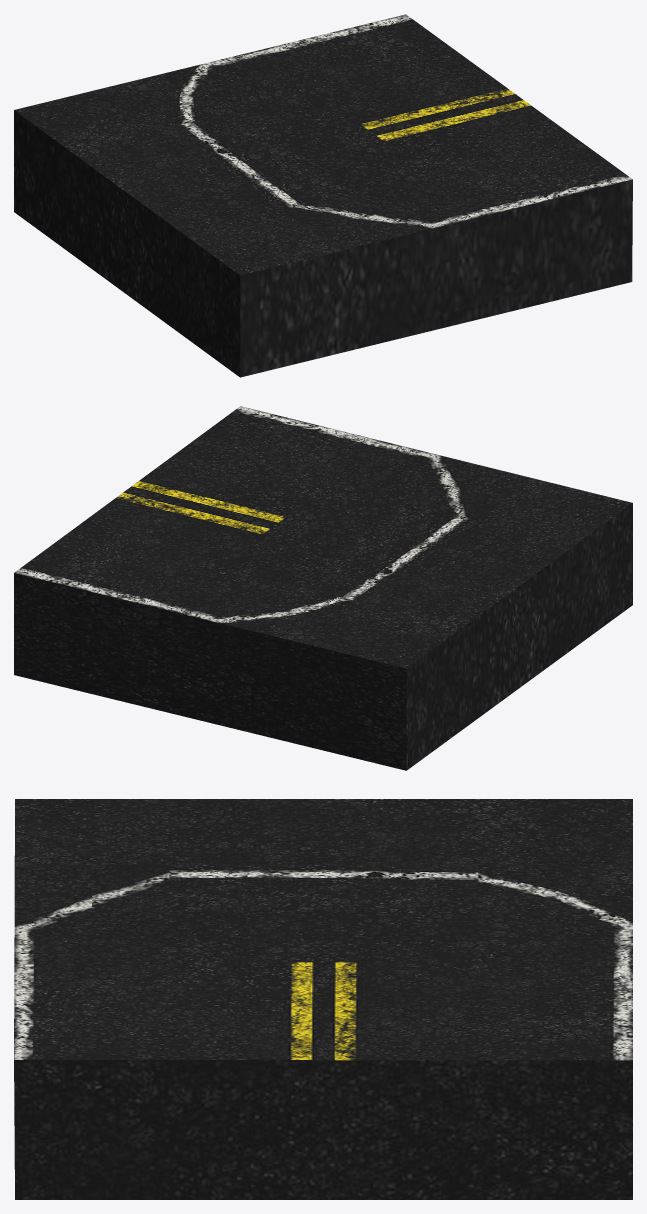
Rendered from Model_Road_End.fbx.
3 renders of one model, top to bottom at view 1: azimuth 30°, elevation 25°; view 2: azimuth 150°, elevation 25°; view 3: azimuth 270°, elevation 25°, orthographic. The views are drawn at different scales.
Visible parts, largest first — view 1: PavementEnd; view 2: PavementEnd; view 3: PavementEnd.
Part boxes in pixels (x1,y1,x2,y2): PavementEnd: (14,14,632,377); PavementEnd: (14,406,632,770); PavementEnd: (14,799,632,1199).
Size of the model in its own units: 25 by 100 by 100.
Materials: 1 (1 with a texture image).
